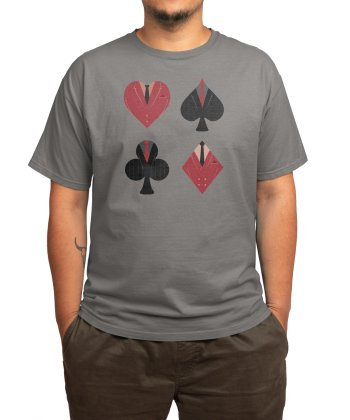design: (120, 76, 226, 197)
